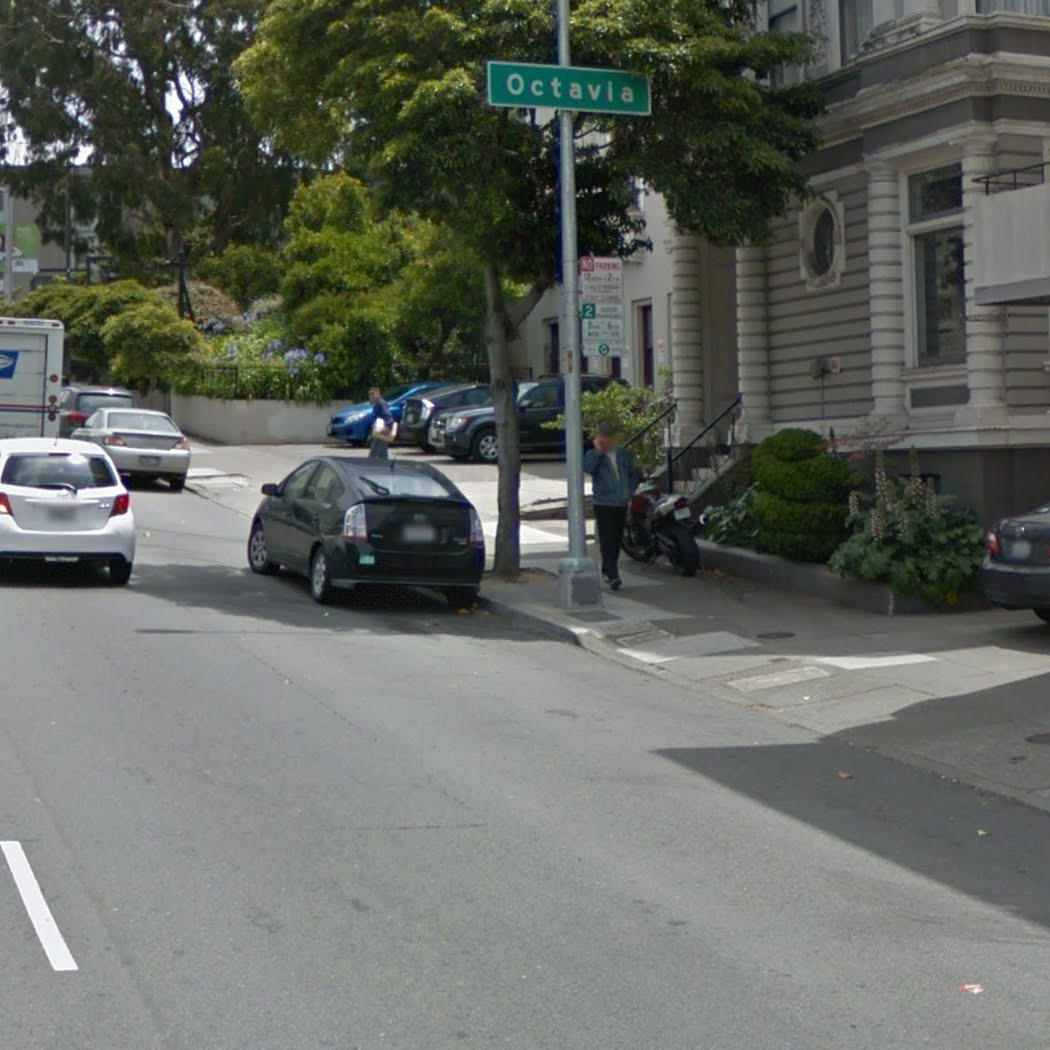2 Hour Parking: (579, 302, 628, 359)
No Parking: (577, 253, 626, 307)
